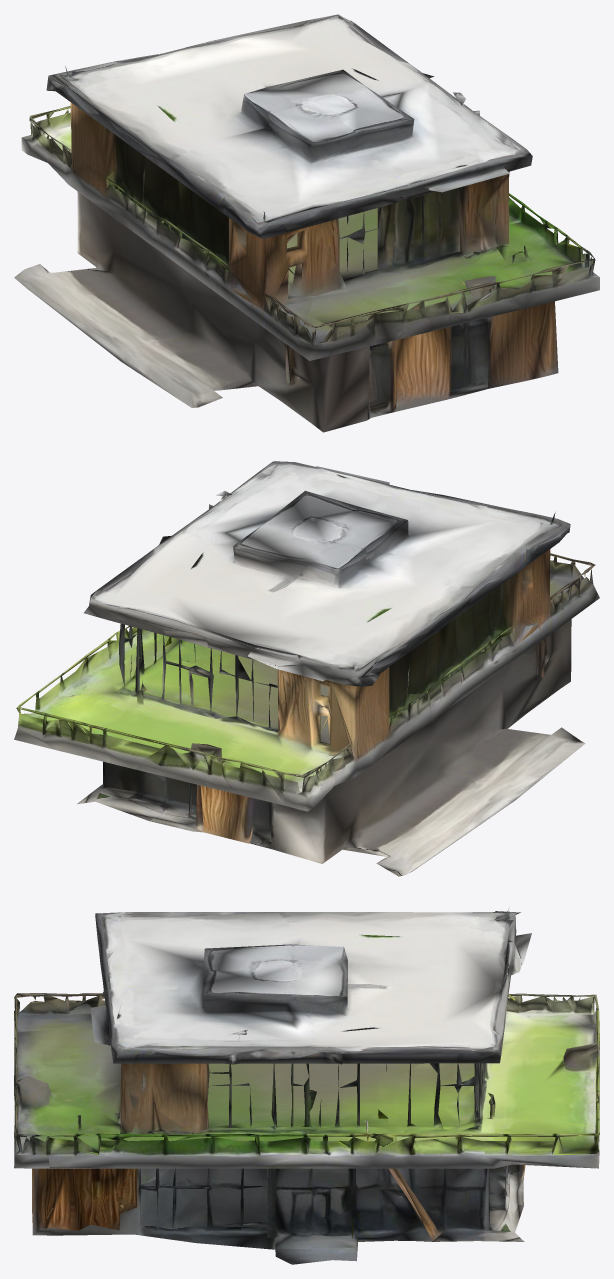
The model's file is clubhaus_klein.glb.
3 views of the same model, one above another, from view 1: azimuth 30°, elevation 25°; view 2: azimuth 150°, elevation 25°; view 3: azimuth 270°, elevation 25° (orthographic).
Visible parts, largest first — view 1: tripo_node_d4373d49-fa58-4304-b16e-524e45b48720; view 2: tripo_node_d4373d49-fa58-4304-b16e-524e45b48720; view 3: tripo_node_d4373d49-fa58-4304-b16e-524e45b48720.
Boxes of the visible parts, x1,y1,x2,y2 form: tripo_node_d4373d49-fa58-4304-b16e-524e45b48720: (14,14,599,432); tripo_node_d4373d49-fa58-4304-b16e-524e45b48720: (14,461,599,876); tripo_node_d4373d49-fa58-4304-b16e-524e45b48720: (14,909,599,1264).
Size of the model in its own units: 0.7131 by 0.4071 by 0.9931.
Materials: 1 (1 with a texture image).
